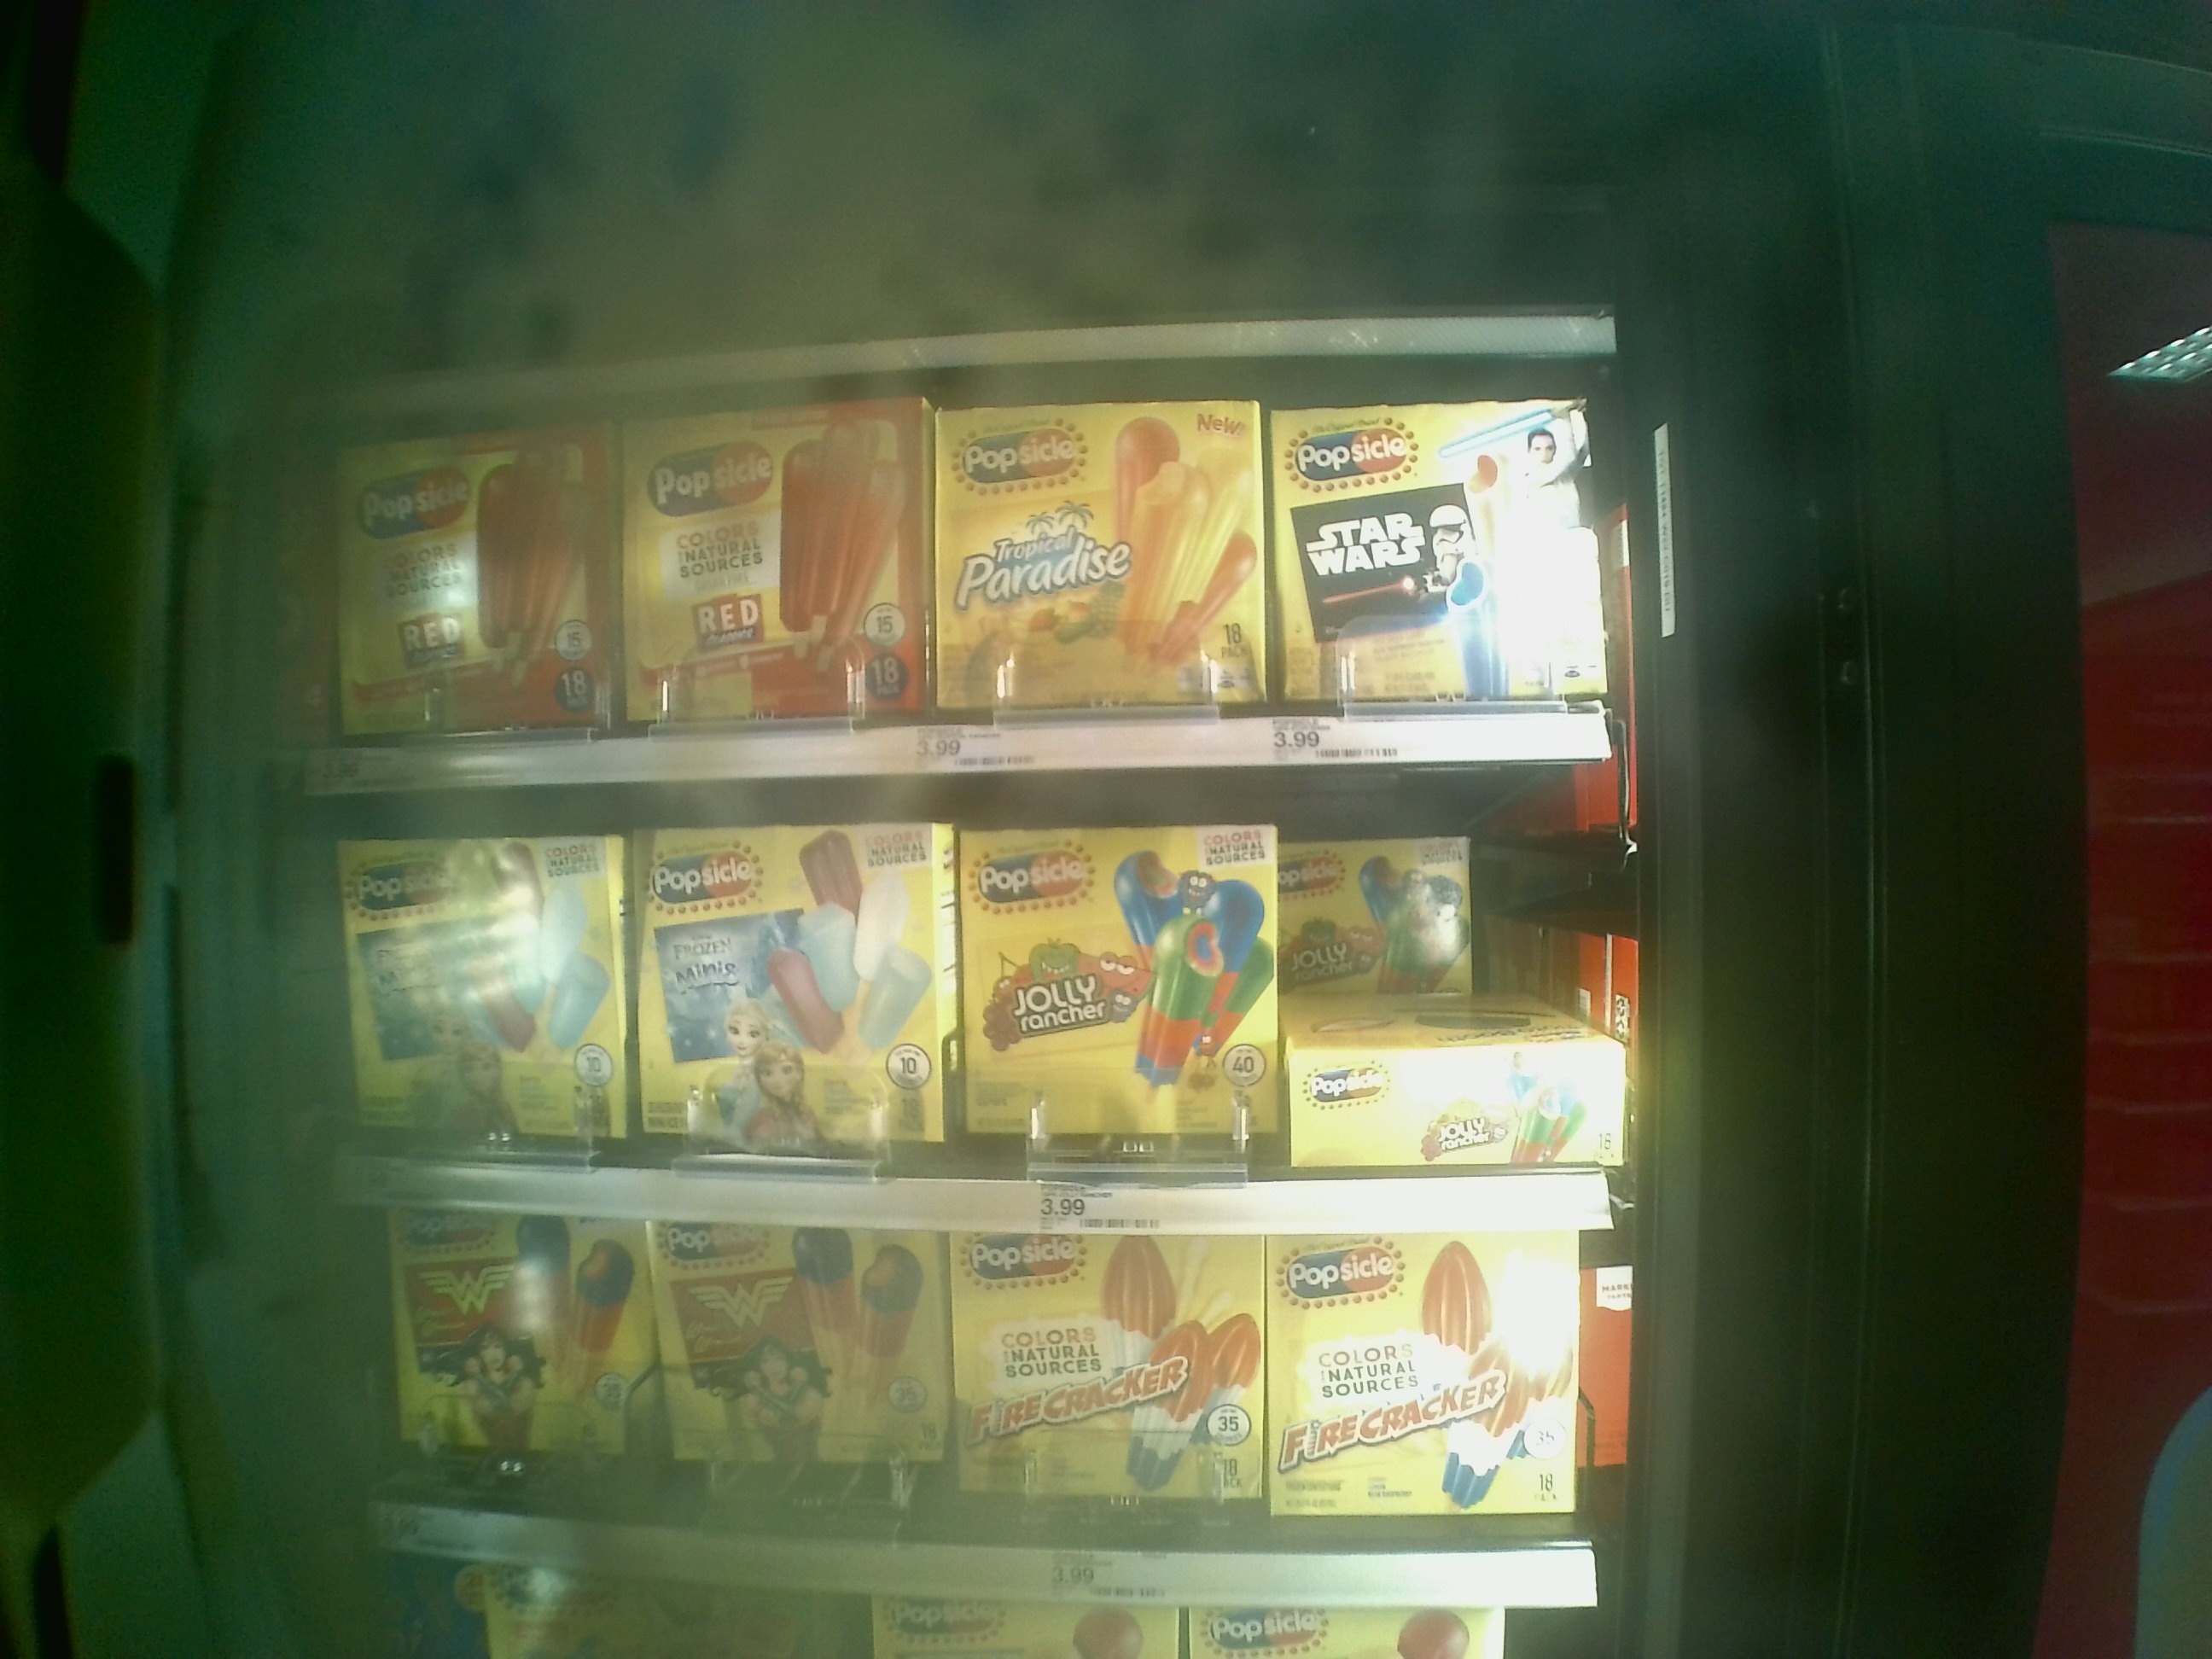shelf: (331, 767, 1627, 1195), (307, 362, 1623, 782), (366, 1194, 1616, 1577)
